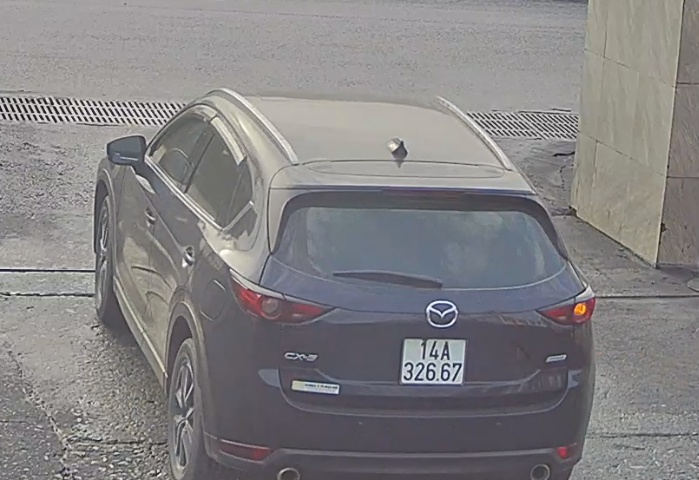vehicle plate: (400, 331, 467, 388)
